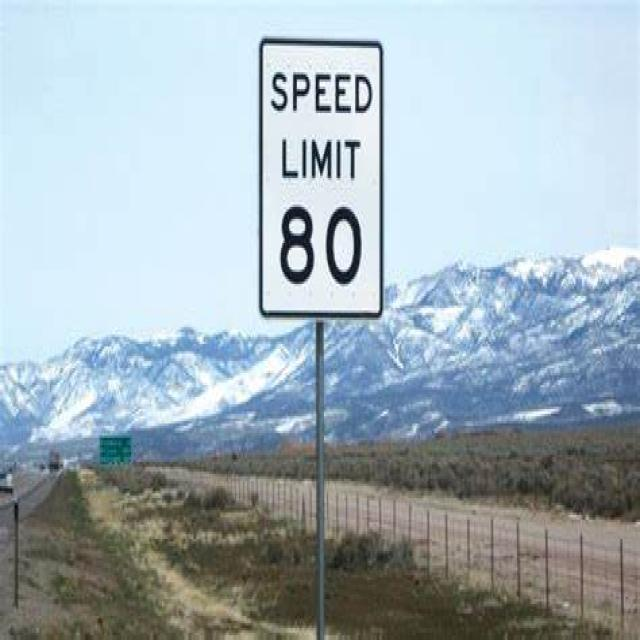speedLimit80: (256, 39, 385, 318)
